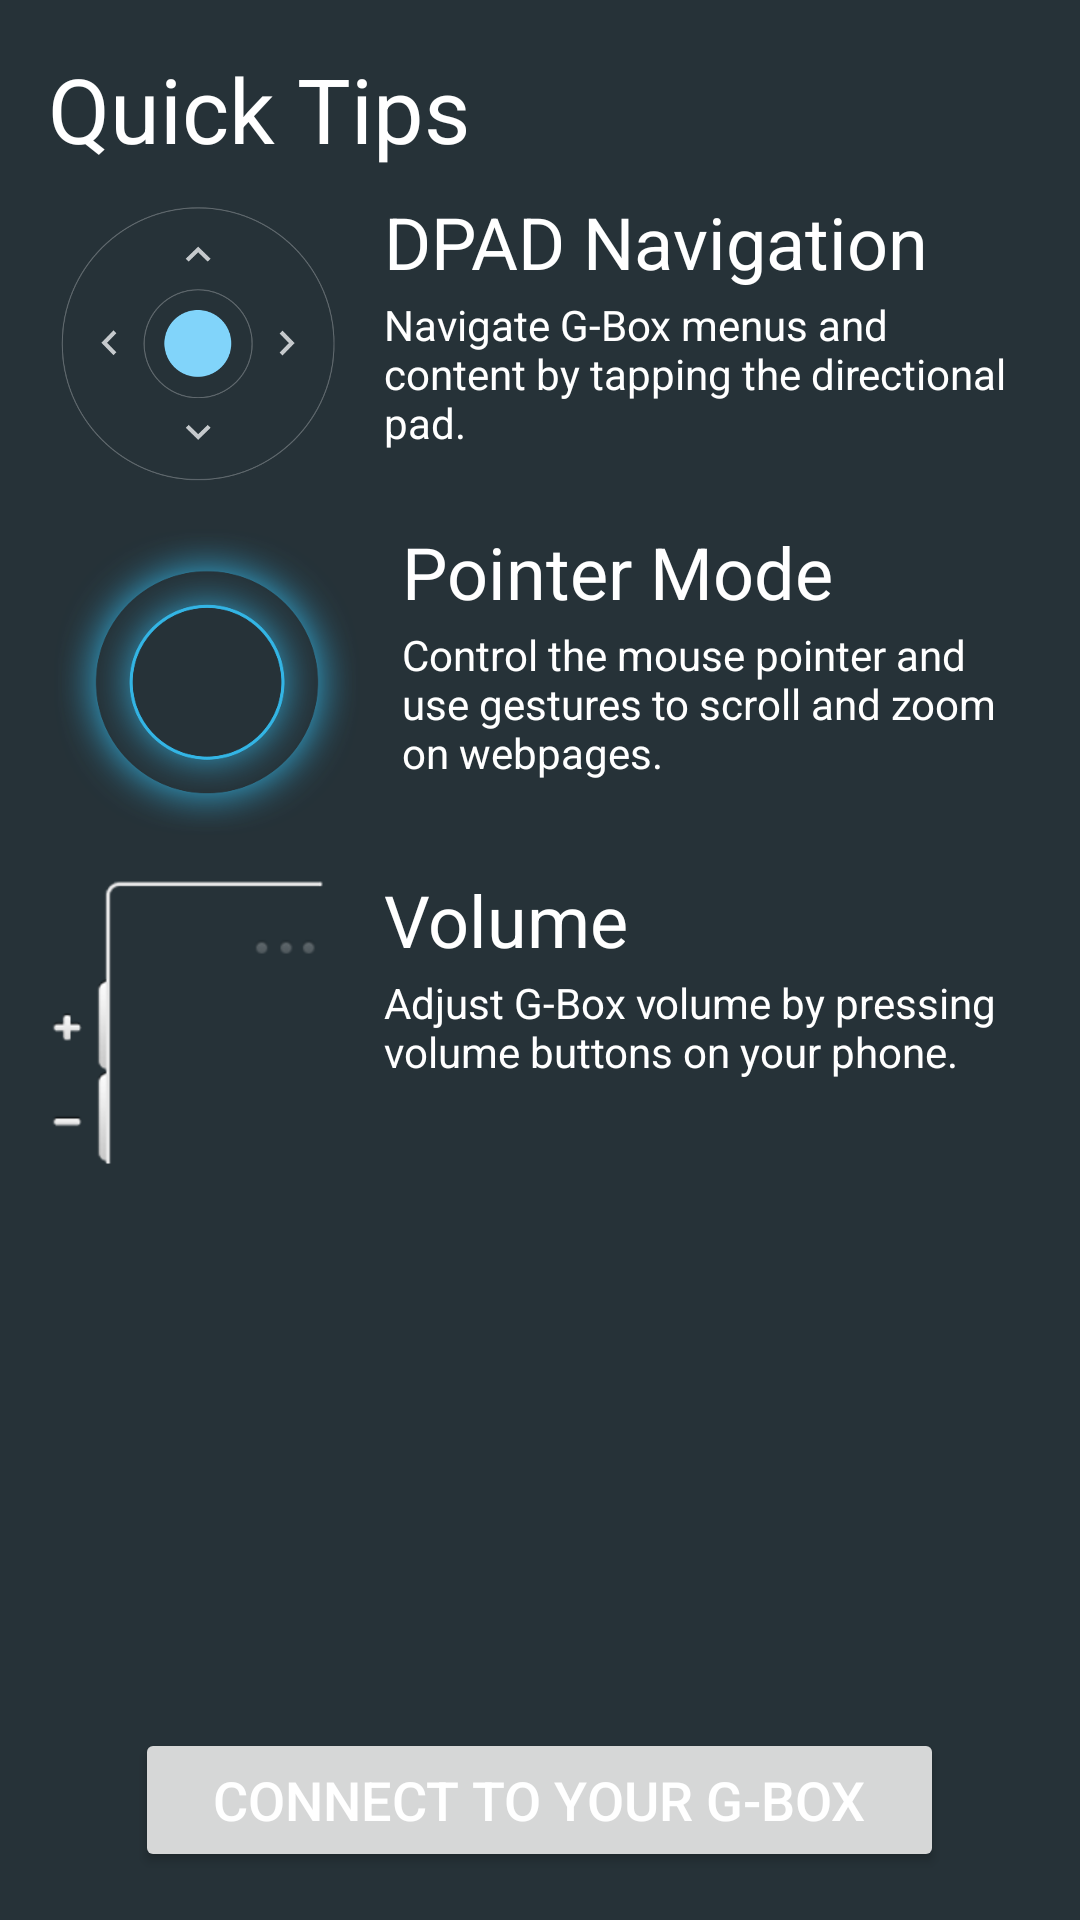

Where icons sit on this 1080×1920 app screen, as (x1, y1, x2, y2):
tutorial dpad: (62, 207, 335, 480)
